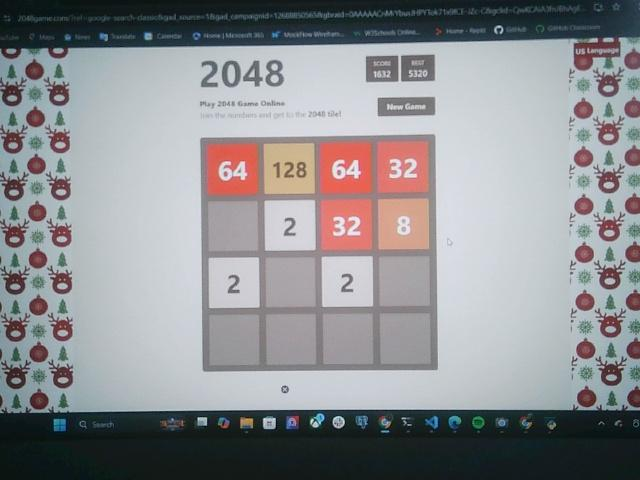board: (202, 137, 437, 370)
tile: (208, 256, 261, 308), (376, 142, 428, 193), (378, 200, 430, 251), (266, 200, 317, 251), (321, 144, 372, 194), (266, 144, 316, 194), (323, 257, 374, 306), (208, 145, 258, 194), (323, 200, 371, 250)
